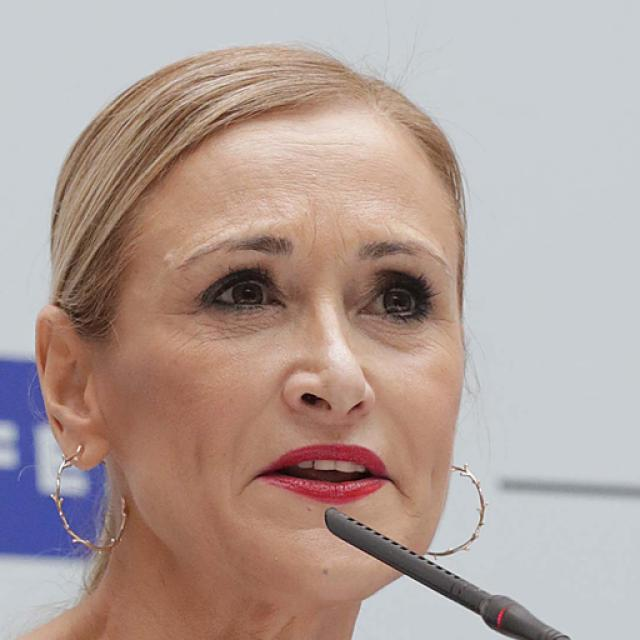fear: (106, 110, 464, 595)
